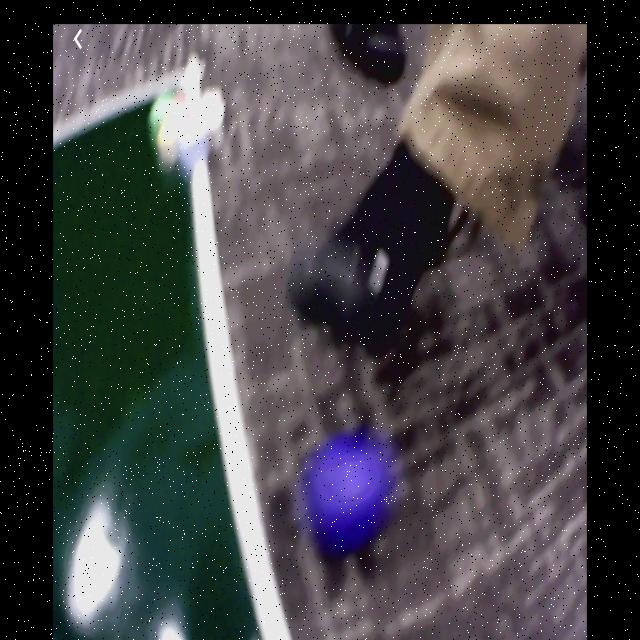ball: (309, 440, 386, 549)
